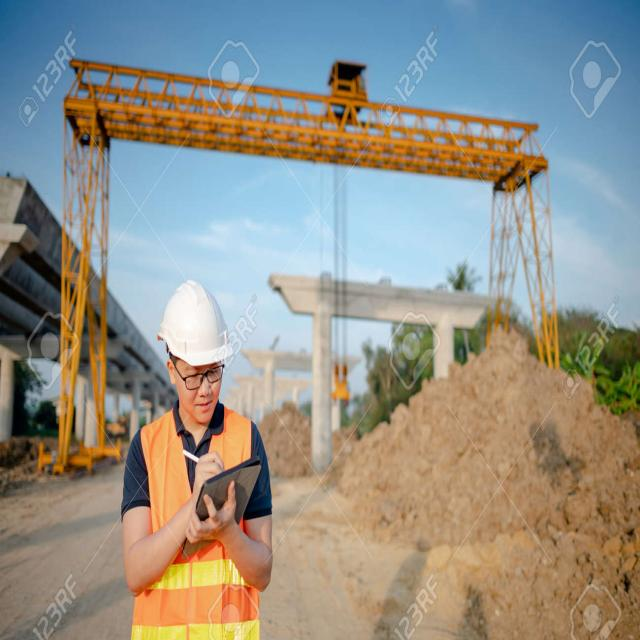goggles: (162, 349, 232, 397)
helmet: (150, 278, 239, 369)
vest: (132, 403, 260, 630)
